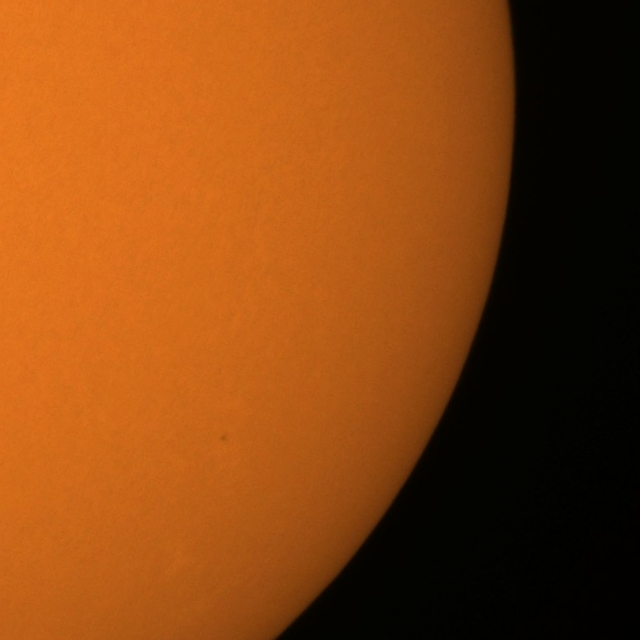sunspot: (218, 432, 229, 444)
